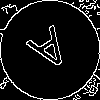A: (25, 25, 79, 82)
